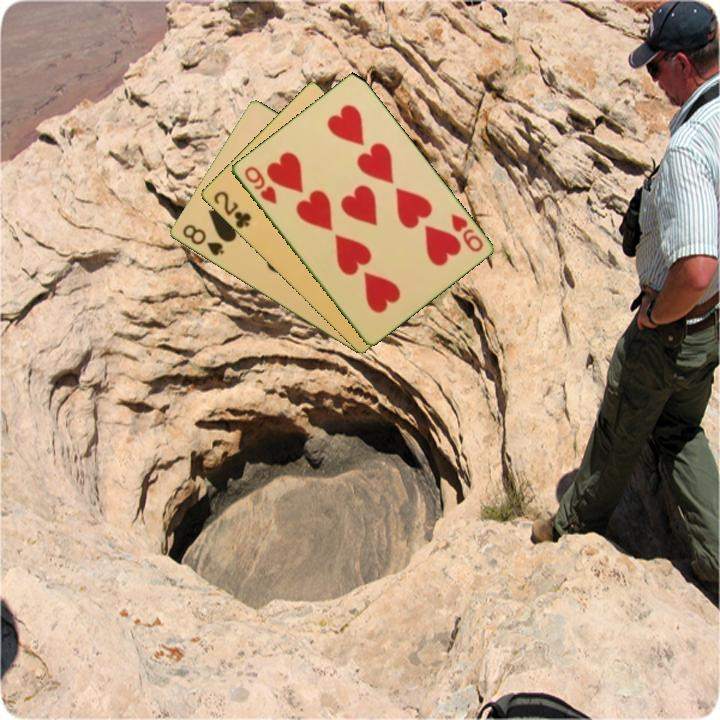2c: (210, 187, 254, 231)
8s: (178, 221, 226, 259)
9h: (240, 162, 280, 207), (447, 210, 486, 255)
